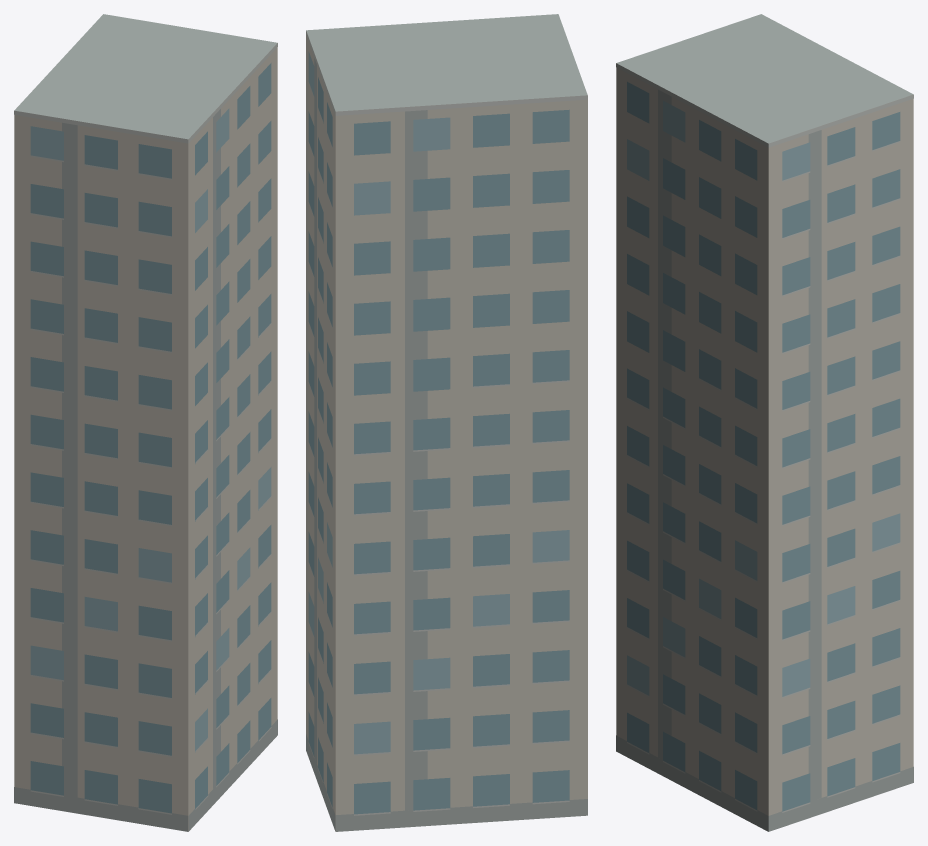
The model's file is residential-3b2b174c-dfc6-4c0b-865f-659db045f4bc.glb.
3 views of the same model, side by side, from view 1: azimuth 30°, elevation 25°; view 2: azimuth 150°, elevation 25°; view 3: azimuth 270°, elevation 25° (orthographic). The views are drawn at different scales.
Parts seen in each view (by area): view 1: residential-3b2b174c-dfc6-4c0b-865f-659db045f4bc.tmp; view 2: residential-3b2b174c-dfc6-4c0b-865f-659db045f4bc.tmp; view 3: residential-3b2b174c-dfc6-4c0b-865f-659db045f4bc.tmp.
Boxes of the visible parts, <box> form: residential-3b2b174c-dfc6-4c0b-865f-659db045f4bc.tmp: <box>14,14,277,831</box>; residential-3b2b174c-dfc6-4c0b-865f-659db045f4bc.tmp: <box>306,14,587,831</box>; residential-3b2b174c-dfc6-4c0b-865f-659db045f4bc.tmp: <box>616,14,913,831</box>.
Bounding box in the file's own units: 16.16 × 40 × 15.68.
